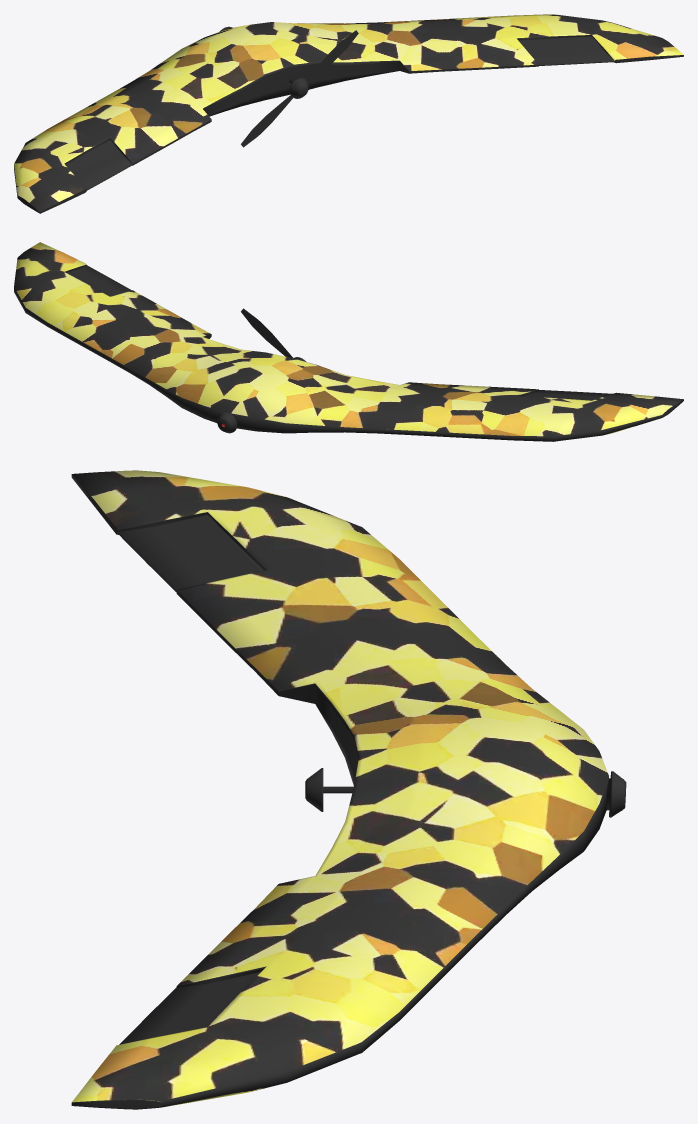
Rendered from wing.glb.
3 views of the same model, one above another, from view 1: azimuth 30°, elevation 25°; view 2: azimuth 150°, elevation 25°; view 3: azimuth 270°, elevation 25° (orthographic). The views are drawn at different scales.
Visible parts, largest first — view 1: base, flapR, flapL, Prop; view 2: base, flapR, flapL, Prop, Camera; view 3: base, flapL, flapR.
Boxes of the visible parts, box(x1,y1,x2,y2) form: base: box(14, 14, 683, 213); flapR: box(518, 36, 614, 65); flapL: box(65, 139, 132, 190); Prop: box(241, 30, 358, 147); base: box(14, 242, 683, 441); flapR: box(66, 265, 131, 296); flapL: box(522, 390, 612, 400); Prop: box(241, 308, 306, 361); Camera: box(217, 411, 237, 433); base: box(71, 470, 608, 1109); flapL: box(117, 514, 263, 592); flapR: box(119, 971, 261, 1044).
Bounding box in the file's own units: 10 × 1.33 × 3.72.
Materials: 1 (1 with a texture image).
